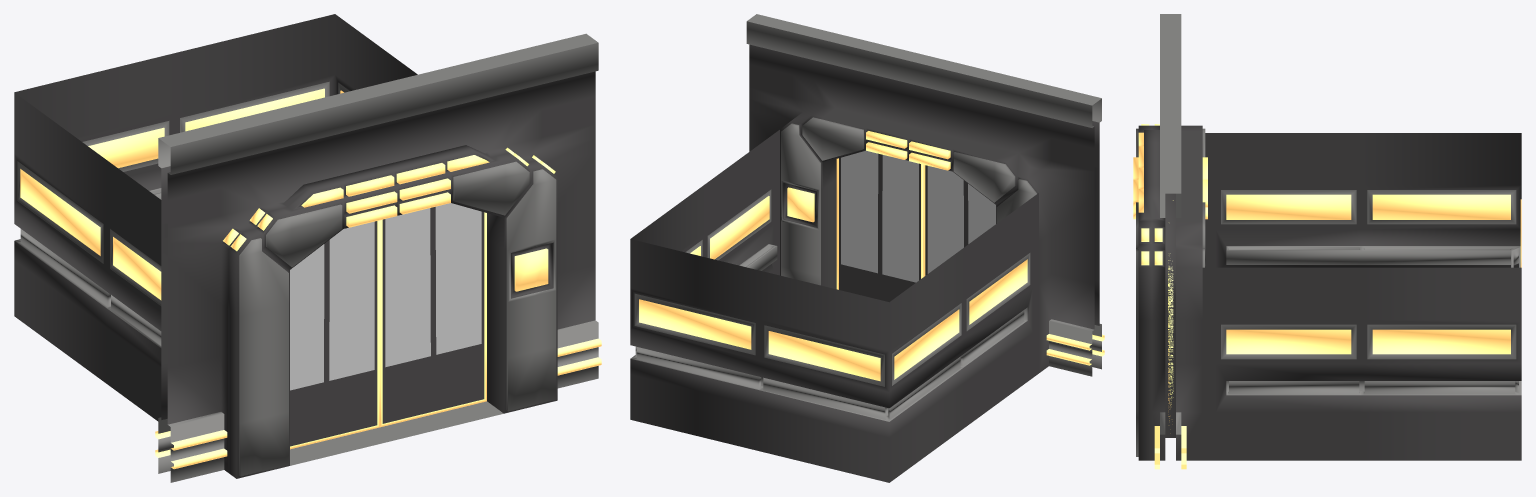
The model's file is elevator.fbx.
3 views of the same model, side by side, from view 1: azimuth 30°, elevation 25°; view 2: azimuth 150°, elevation 25°; view 3: azimuth 270°, elevation 25° (orthographic). The views are drawn at different scales.
Visible parts, largest first — view 1: Wall.Elevator.Frame, Elevator.Door.Right, Elevator.Doors.Left; view 2: Wall.Elevator.Frame, Elevator.Door.Right, Elevator.Doors.Left; view 3: Wall.Elevator.Frame, Elevator.Door.Right.
Boxes of the visible parts, box(x1,y1,x2,y2) form: Wall.Elevator.Frame: box(14, 14, 601, 482); Elevator.Door.Right: box(380, 203, 486, 427); Elevator.Doors.Left: box(290, 220, 379, 449); Wall.Elevator.Frame: box(630, 14, 1104, 482); Elevator.Door.Right: box(836, 150, 923, 302); Elevator.Doors.Left: box(923, 164, 995, 276); Wall.Elevator.Frame: box(1133, 14, 1521, 469); Elevator.Door.Right: box(1168, 200, 1173, 420).
Size of the model in its own units: 400 by 300 by 365.
